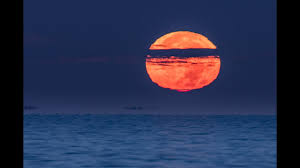moon: (145, 29, 221, 92)
